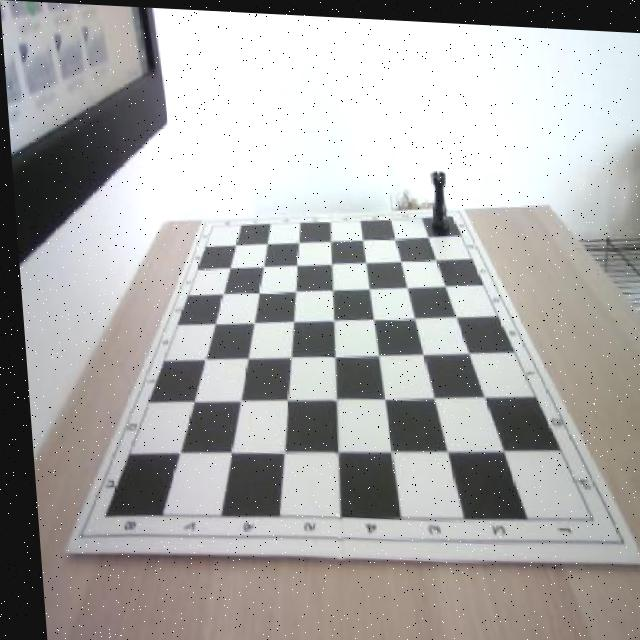black-queen: (424, 166, 448, 230)
